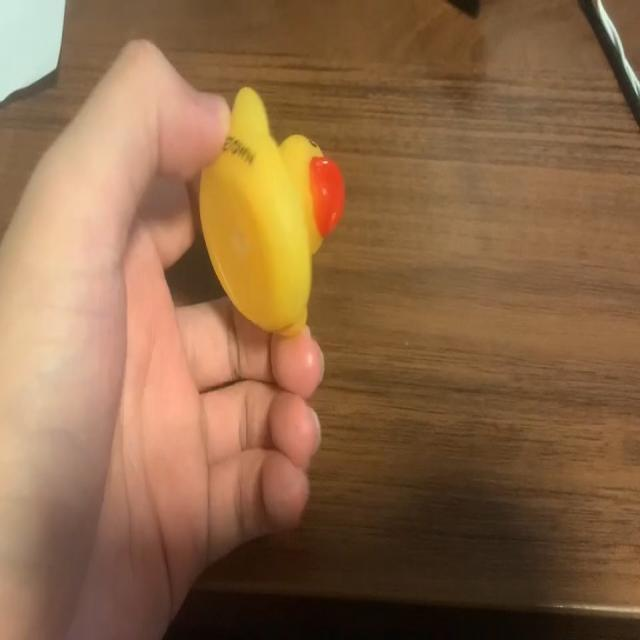rubber-duck: (198, 86, 342, 330)
